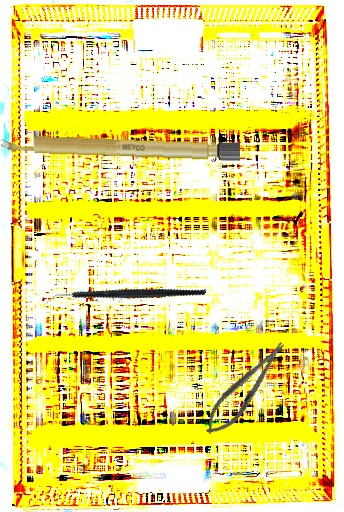Chopper: (44, 240, 208, 354)
Needle Holder: (197, 334, 295, 443)
Scalpel Handle: (0, 132, 241, 162)
